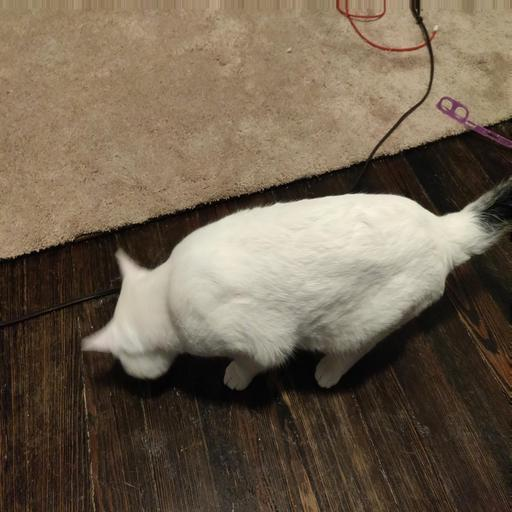cat: (104, 118, 408, 422)
